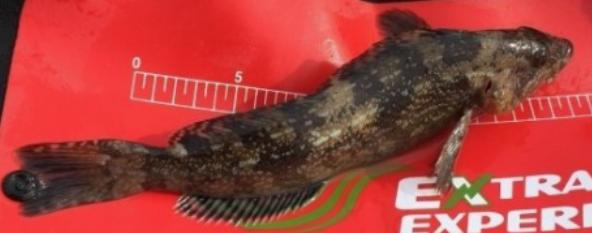fish: (3, 10, 571, 226)
